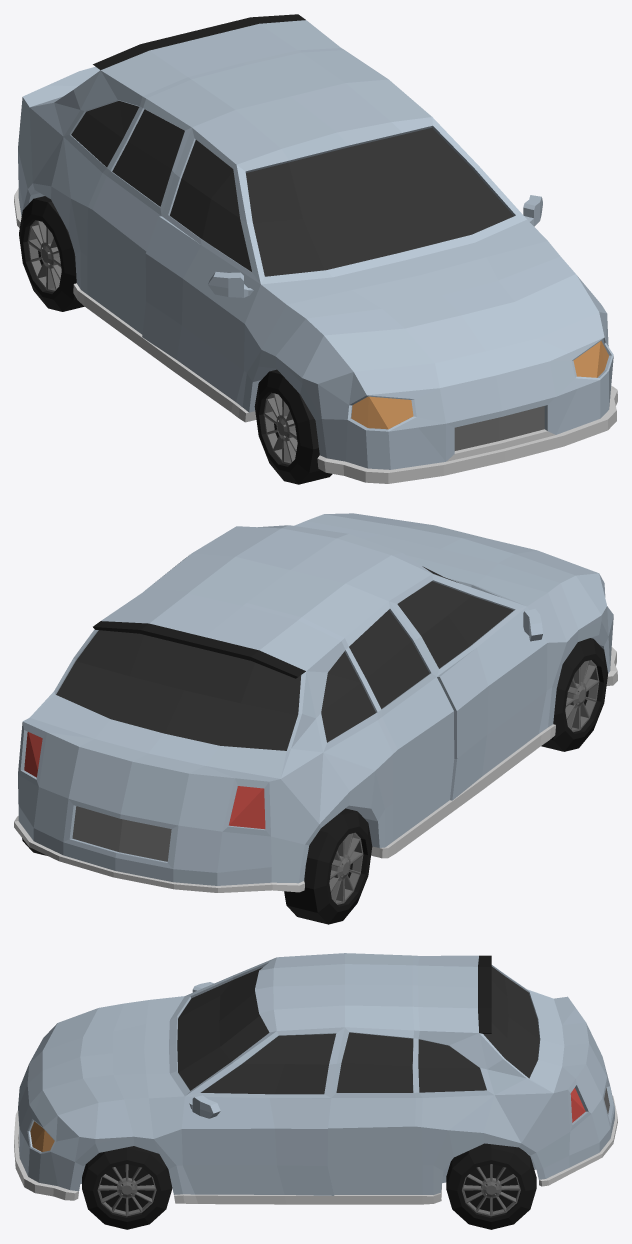
Rendered from Car.gltf.
3 views of the same model, one above another, from view 1: azimuth 30°, elevation 25°; view 2: azimuth 150°, elevation 25°; view 3: azimuth 270°, elevation 25° (orthographic). The views are drawn at different scales.
Visible parts, largest first — view 1: NormalCar2_Cube.002, NormalCar2_FrontRightWheel_Cylinder.016, NormalCar2_BackWheels_Cylinder.003; view 2: NormalCar2_Cube.002, NormalCar2_BackWheels_Cylinder.003, NormalCar2_FrontRightWheel_Cylinder.016; view 3: NormalCar2_Cube.002, NormalCar2_BackWheels_Cylinder.003, NormalCar2_FrontLeftWheel_Cylinder.015.
Boxes of the visible parts, x1,y1,x2,y2 form: NormalCar2_Cube.002: (14,14,617,483); NormalCar2_FrontRightWheel_Cylinder.016: (254,369,332,484); NormalCar2_BackWheels_Cylinder.003: (19,196,84,311); NormalCar2_Cube.002: (14,513,617,892); NormalCar2_BackWheels_Cylinder.003: (22,808,372,924); NormalCar2_FrontRightWheel_Cylinder.016: (541,638,607,751); NormalCar2_Cube.002: (14,953,617,1204); NormalCar2_BackWheels_Cylinder.003: (446,1143,536,1229); NormalCar2_FrontLeftWheel_Cylinder.015: (82,1146,172,1229).
Bounding box in the file's own units: 1.64 × 1.15 × 3.31.
